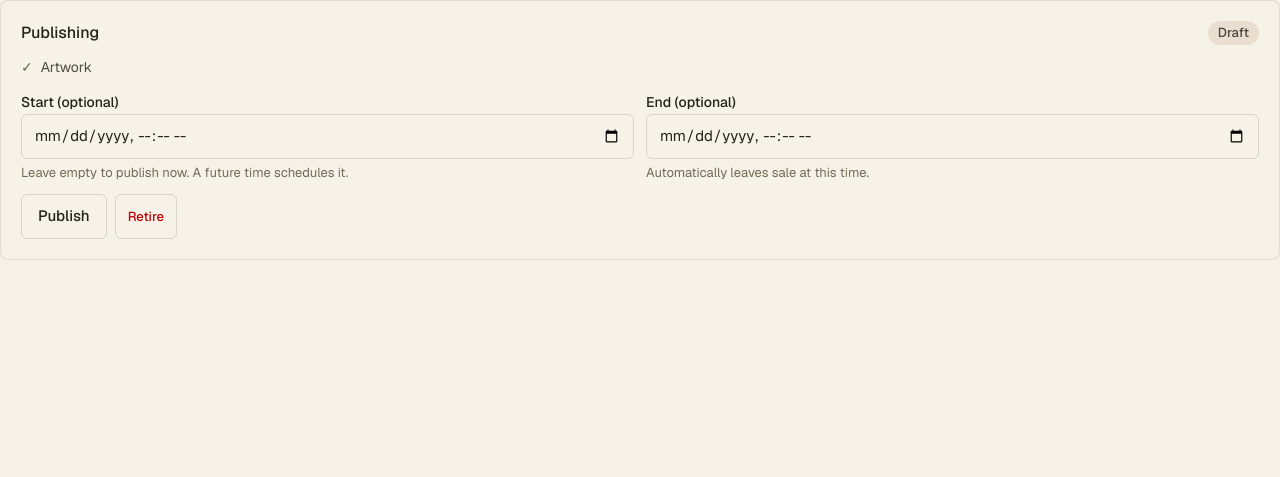
Test case: Publishing › server refusals show admin copy, not database text
Click the button "Publish". click: (64, 216)
box: [21,194,107,238]
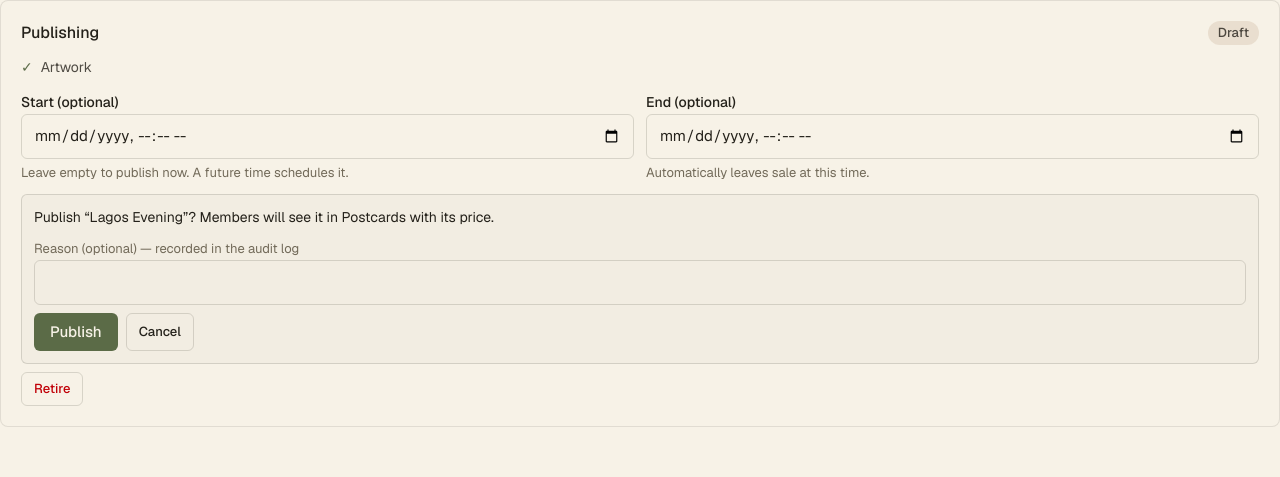
Click the button "Publish". click: (76, 332)
box: [34,312,118,351]
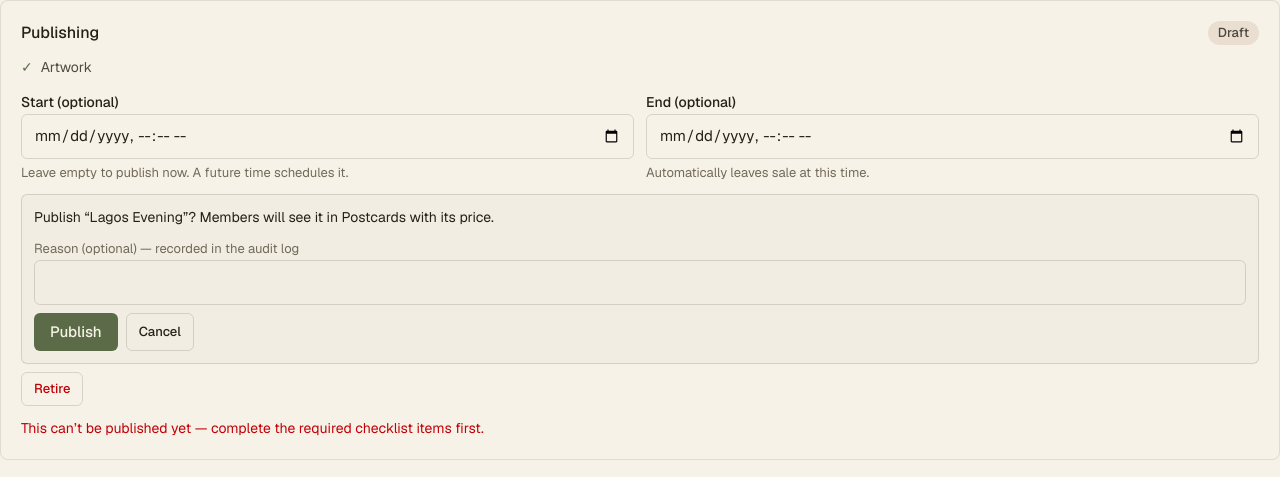
Expected: the message "This can’t be published yet — complete the required checklist items first." is shown, [21,418,484,436]
